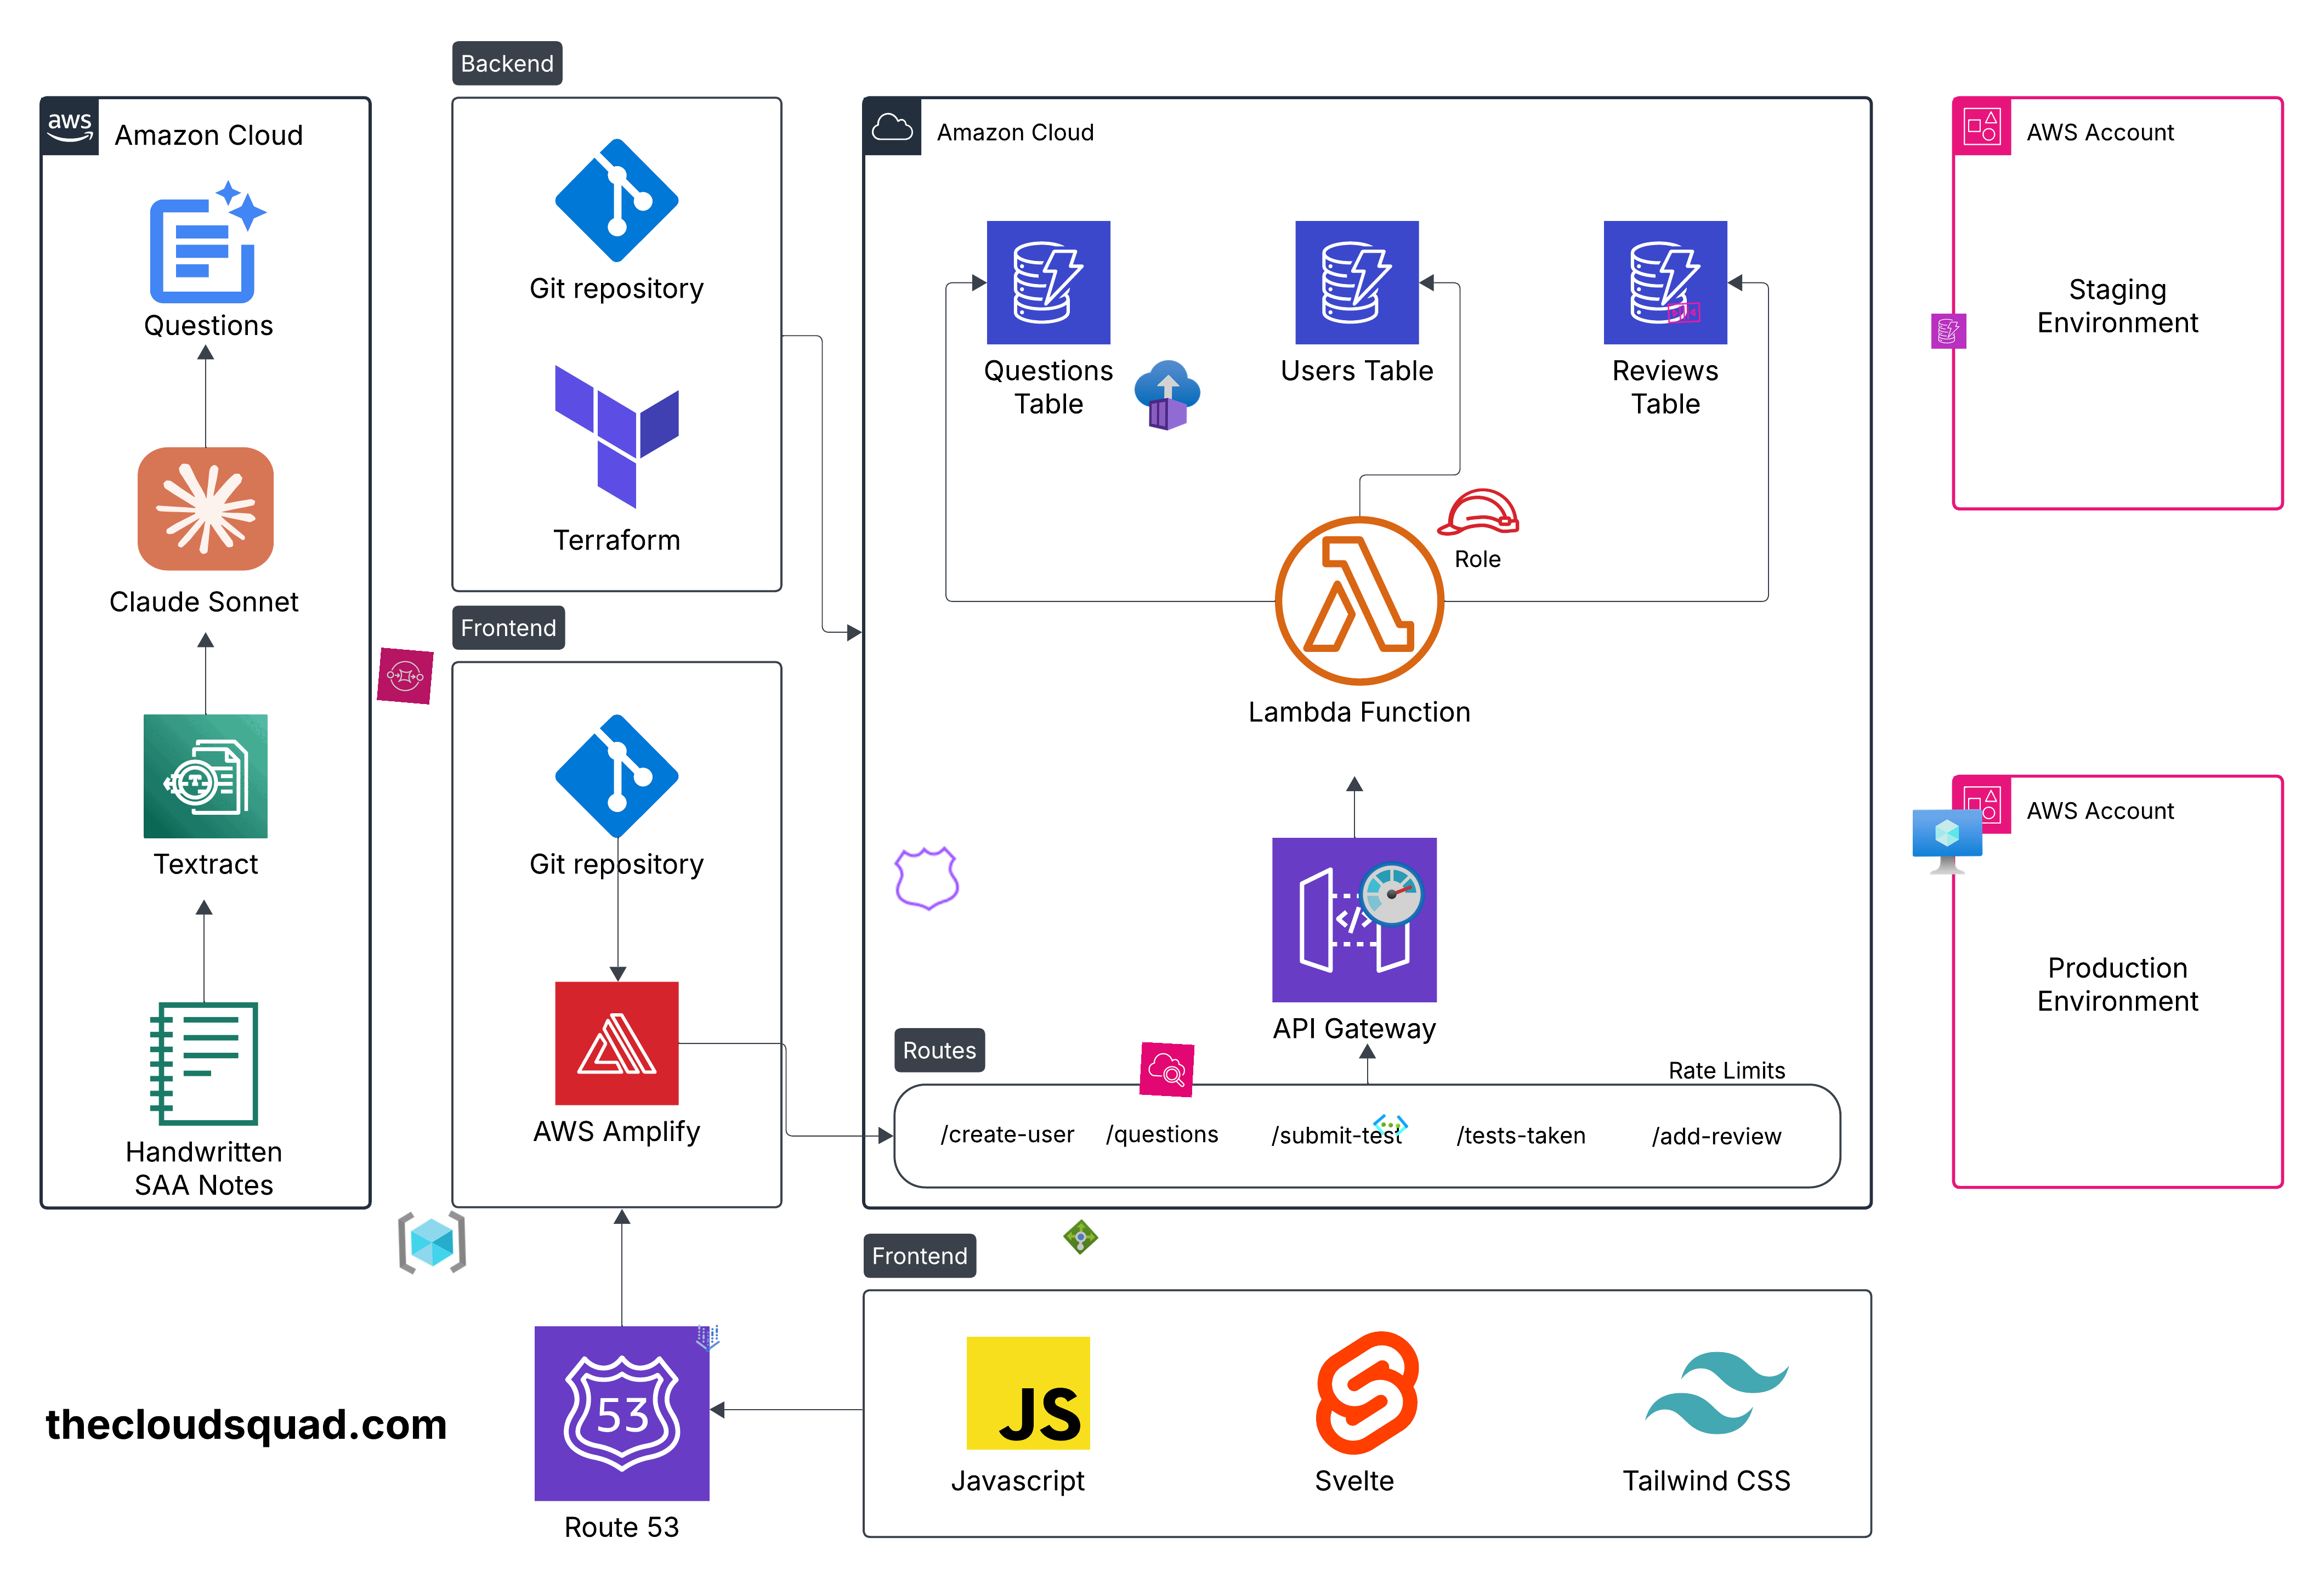aws_amazon_cloudwatch: (1139, 1043, 1195, 1097)
aws_amazon_dynamodb: (1931, 313, 1967, 349)
aws_amazon_simple_queue_service: (377, 648, 433, 704)
aws_route_53_hosted_zone: (889, 840, 965, 918)
aws_simple_queue_service_queue: (1666, 294, 1703, 331)
azure_container_instances: (1132, 359, 1202, 431)
azure_load_balancers: (1062, 1219, 1099, 1256)
azure_monitor: (1356, 859, 1428, 930)
azure_resource_groups: (396, 1206, 468, 1279)
azure_virtual_machine: (1912, 808, 1984, 879)
azure_virtual_networks: (1372, 1106, 1410, 1145)
gcp_vertex_ai: (690, 1321, 725, 1356)
